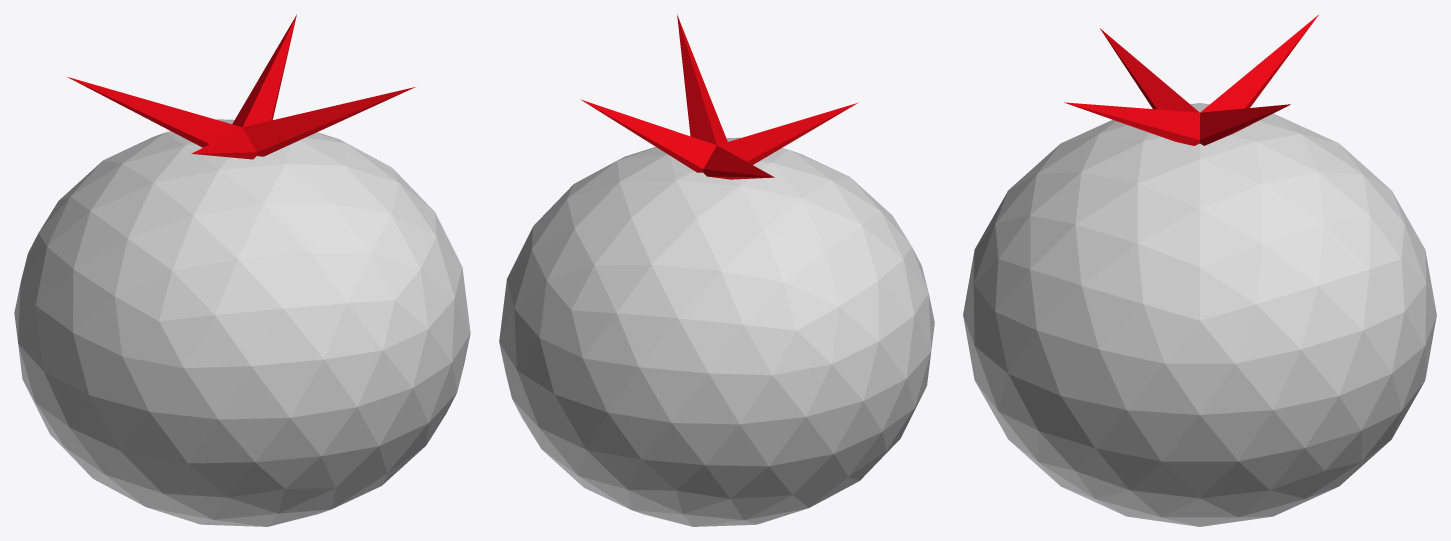
Rendered from Tomato.fbx.
3 renders of one model, left to right at view 1: azimuth 30°, elevation 25°; view 2: azimuth 150°, elevation 25°; view 3: azimuth 270°, elevation 25°, orthographic. The views are drawn at different scales.
Parts seen in each view (by area): view 1: Tomato; view 2: Tomato; view 3: Tomato.
Part boxes in pixels (x1=…): Tomato: x1=14, y1=14, x2=470, y2=526; Tomato: x1=499, y1=14, x2=934, y2=526; Tomato: x1=963, y1=15, x2=1436, y2=526.
Bounding box in the file's own units: 200 × 211 × 200.
